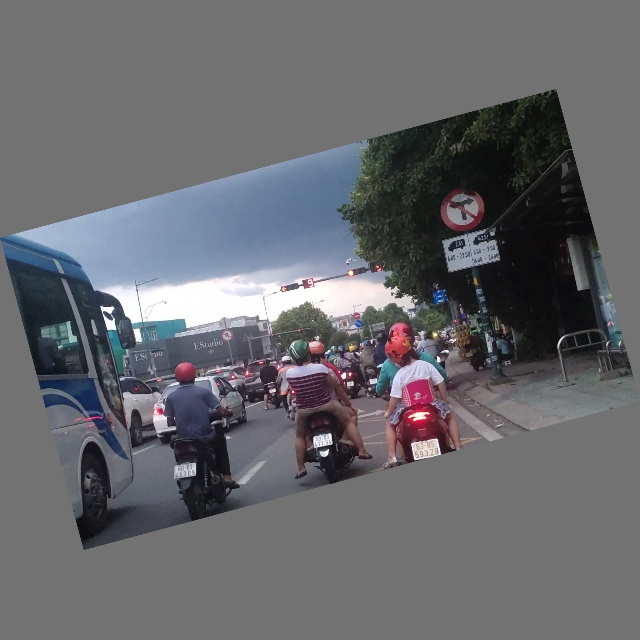P.102: (352, 312, 362, 321)
P.124a*: (220, 329, 234, 344)
P.137: (435, 182, 490, 237)
R.302a: (354, 320, 363, 329)
S.505a*Xe tai: (440, 227, 502, 275)
